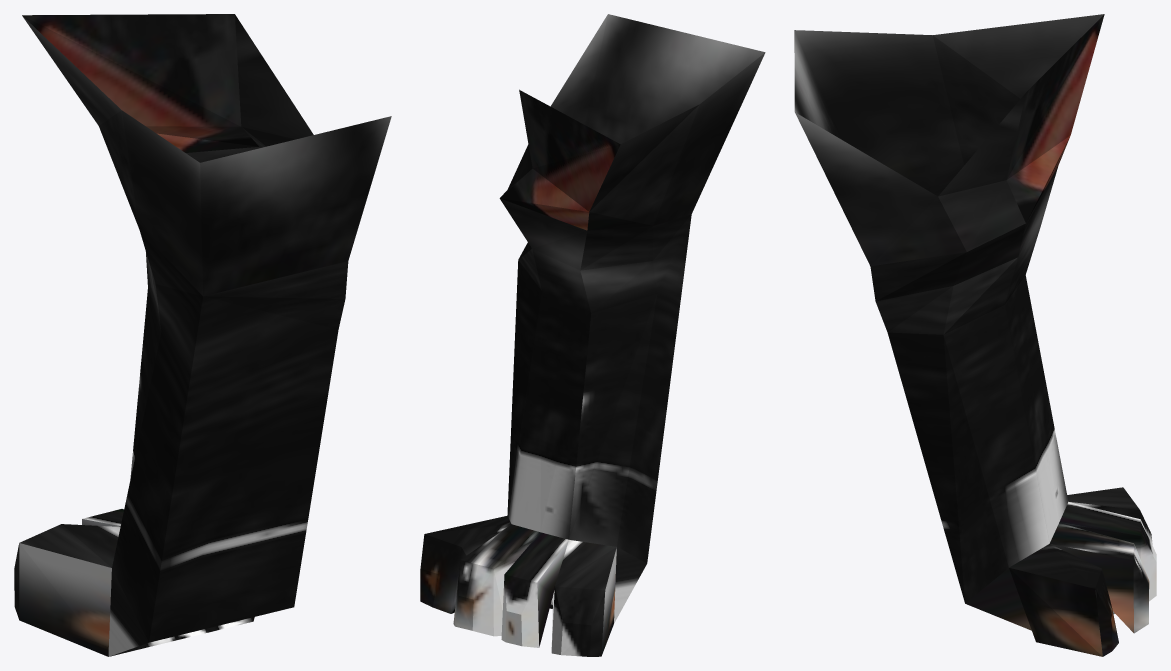
Rendered from Cat_RightFront.obj.
3 renders of one model, left to right at view 1: azimuth 30°, elevation 25°; view 2: azimuth 150°, elevation 25°; view 3: azimuth 270°, elevation 25°, orthographic. The views are drawn at different scales.
Visible parts, largest first — view 1: Cat_RightFront; view 2: Cat_RightFront; view 3: Cat_RightFront.
Part boxes in pixels (x1,y1,x2,y2): Cat_RightFront: (14, 14, 391, 656); Cat_RightFront: (420, 14, 765, 656); Cat_RightFront: (794, 14, 1156, 656).
Size of the model in its own units: 0.183 by 0.4465 by 0.2684.
